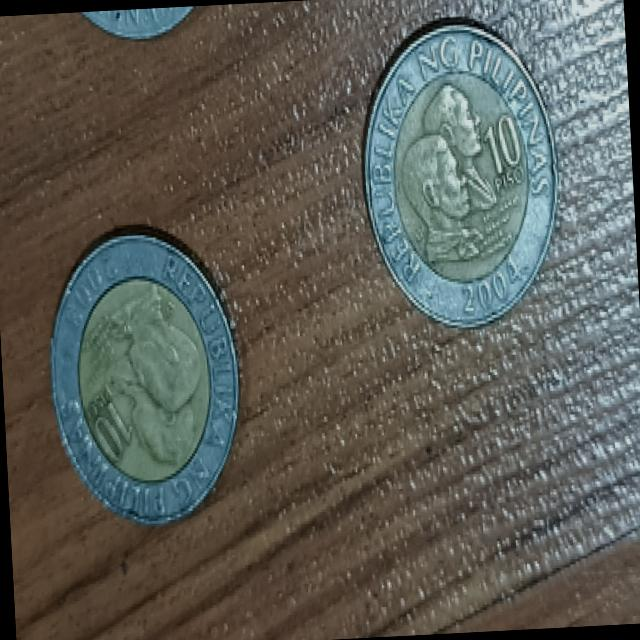10_peso: (364, 22, 557, 324), (51, 237, 238, 520)
